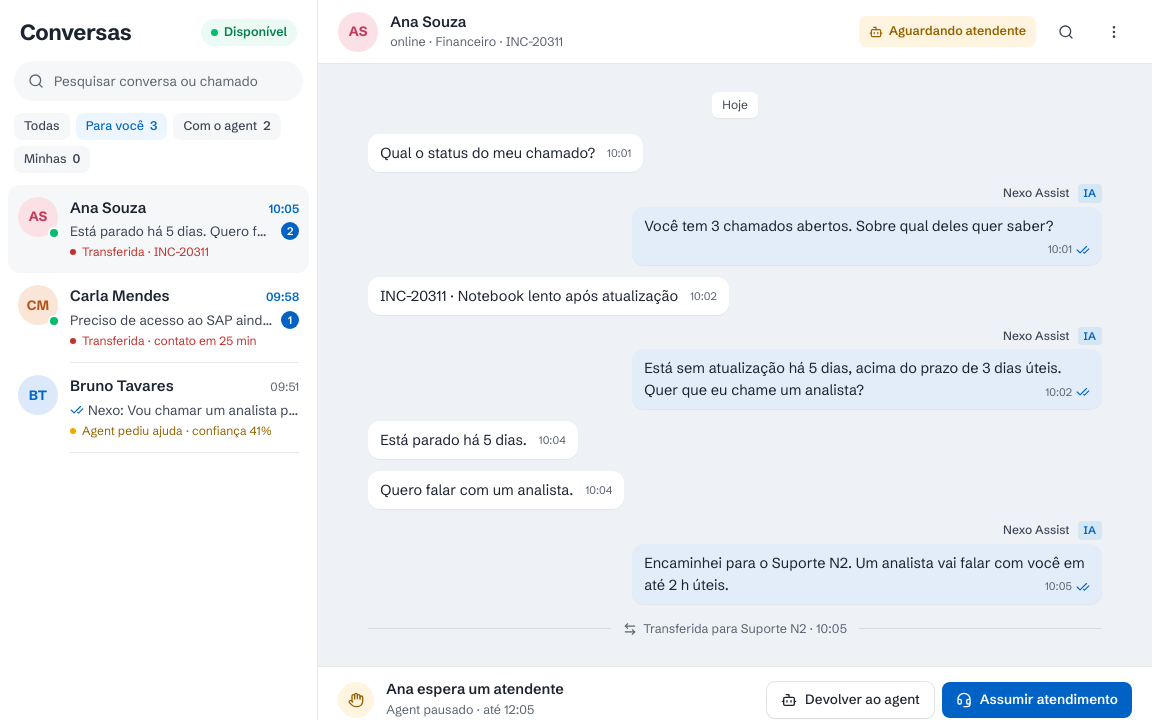
Scenario: ConsoleView › abre outra conversa e zera as não lidas
Step 1. Click the button "Carla Mendes" → (159, 318), box top-left (8, 273), bottom-right (309, 363)
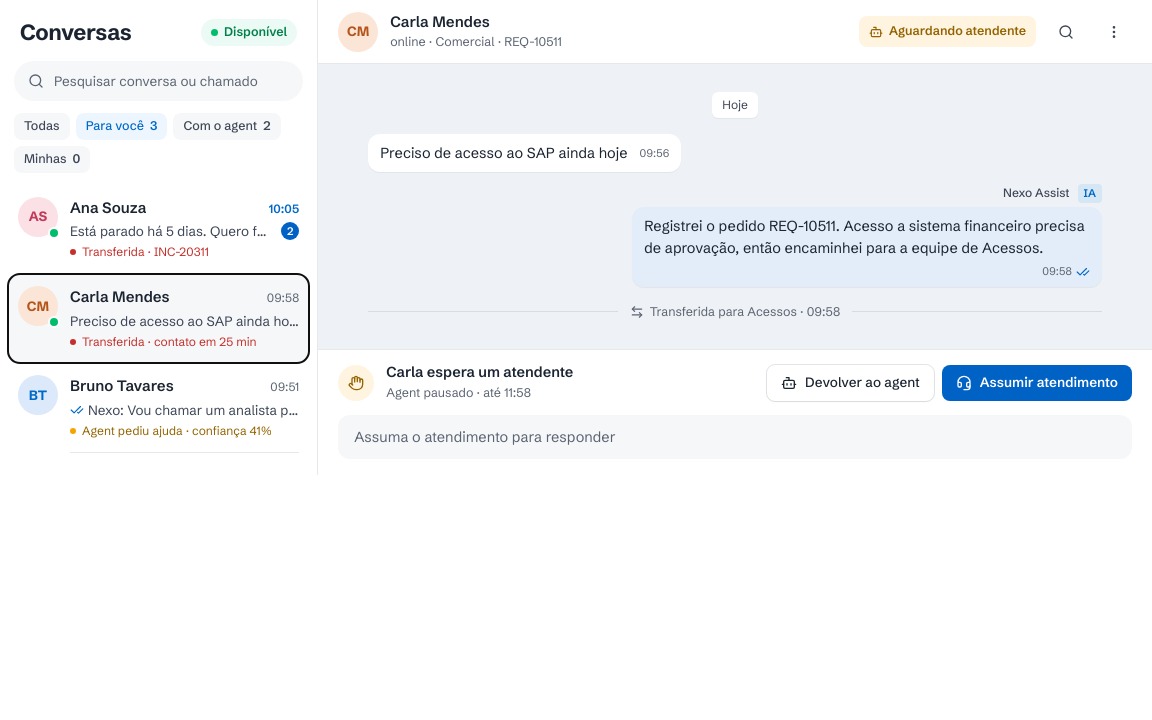
Result: the element named "Conversa com Carla Mendes" is shown at top-left (318, 0), bottom-right (1151, 475)
